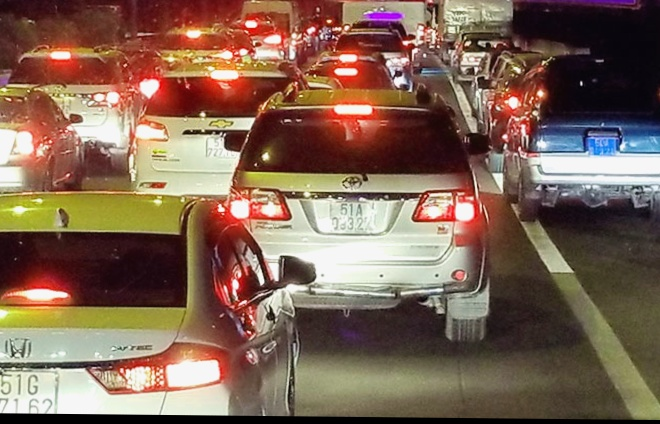Bien-so: (0, 378, 63, 424), (326, 221, 372, 258), (214, 148, 241, 173)
